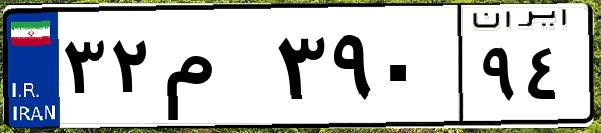0: (385, 28, 445, 110)
2: (110, 28, 158, 98)
3: (270, 28, 330, 110), (57, 26, 110, 100)
4: (525, 38, 570, 115)
9: (330, 28, 385, 110), (475, 38, 525, 113)
م: (158, 20, 270, 120)
